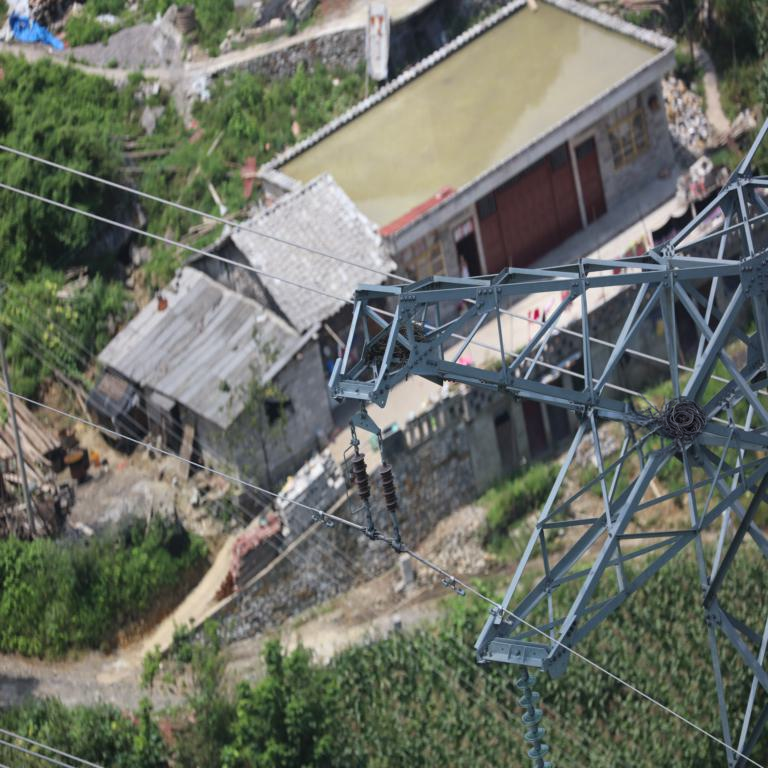nest: (657, 401, 703, 445), (381, 329, 427, 365)
